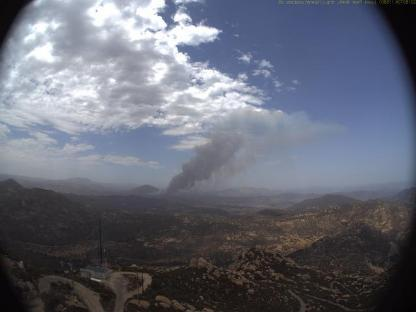smoke: (159, 108, 305, 202)
